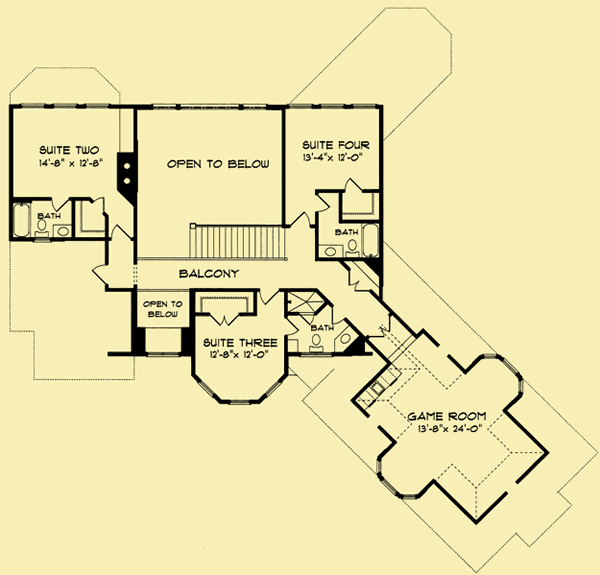bathroom has a tub, small and large sink: (310, 192, 383, 263)
bathroom has shower space small and large sink: (286, 286, 372, 356)
bathroom with tub, small and large sink: (7, 197, 109, 242)
this is a game room: (356, 330, 551, 516)
this portion is open to below with stairs to other floors: (135, 145, 287, 262)
